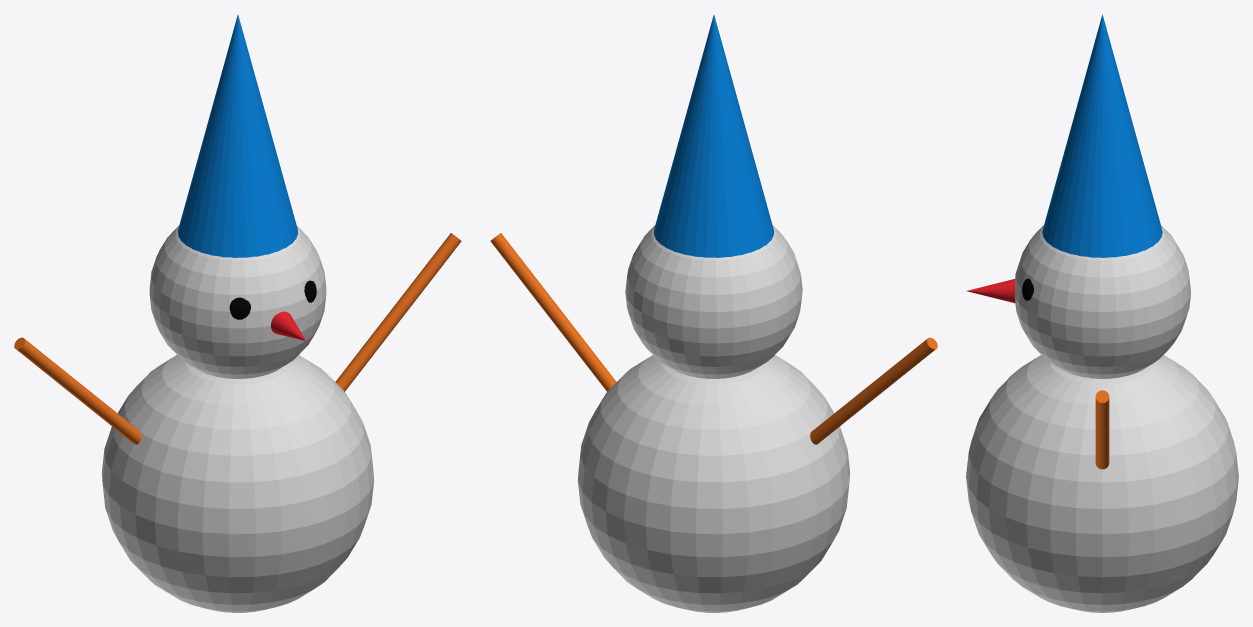
The model's file is snowman.gltf.
3 renders of one model, left to right at view 1: azimuth 30°, elevation 25°; view 2: azimuth 150°, elevation 25°; view 3: azimuth 270°, elevation 25°, orthographic.
Visible parts, largest first — view 1: Sphere; view 2: Sphere; view 3: Sphere.
Part boxes in pixels (<box>): Sphere: <box>14,15,461,612</box>; Sphere: <box>490,15,937,612</box>; Sphere: <box>966,14,1238,612</box>.
Bounding box in the file's own units: 3.76 × 4.74 × 2.
